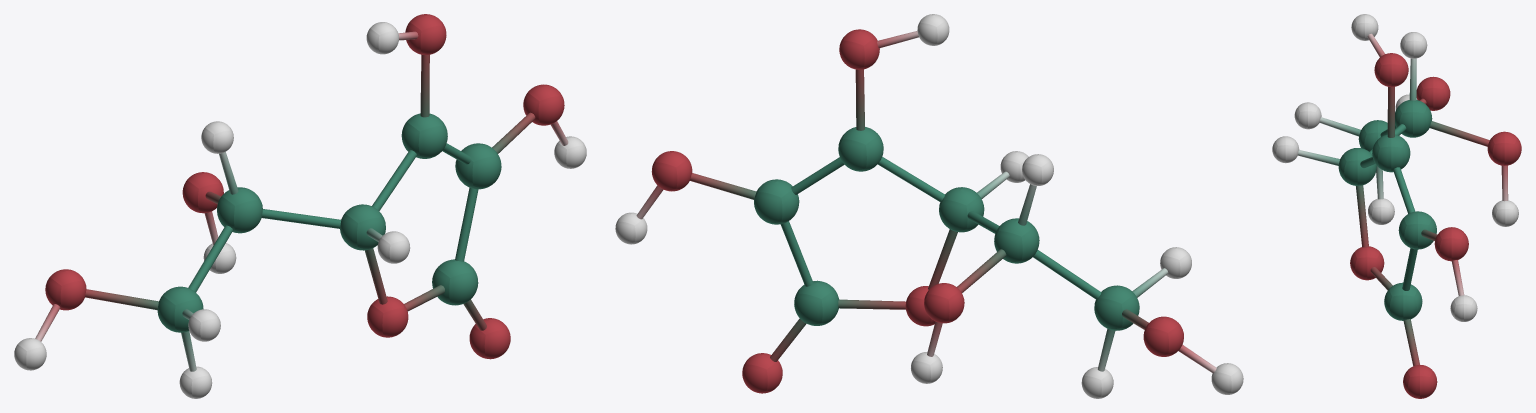
The model's file is L-Ascorbic Acid.fbx.
3 views of the same model, side by side, from view 1: azimuth 30°, elevation 25°; view 2: azimuth 150°, elevation 25°; view 3: azimuth 270°, elevation 25° (orthographic). The views are drawn at different scales.
Parts seen in each view (by area): view 1: curMeshHyperballExportedMesh; view 2: curMeshHyperballExportedMesh; view 3: curMeshHyperballExportedMesh.
Boxes of the visible parts, x1,y1,x2,y2 form: curMeshHyperballExportedMesh: (14,14,586,398); curMeshHyperballExportedMesh: (615,14,1243,398); curMeshHyperballExportedMesh: (1272,14,1521,398).
Bounding box in the file's own units: 8.5 × 5.31 × 3.69.
